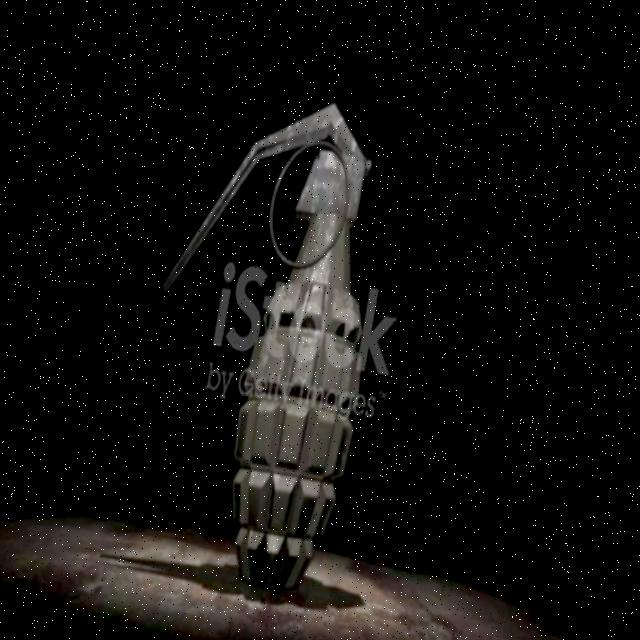grenade: (82, 47, 460, 605)
